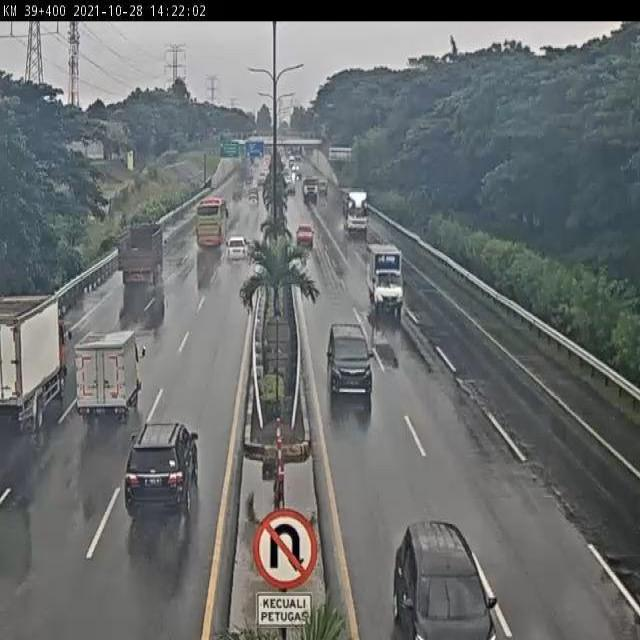big bus: (193, 196, 229, 251)
car: (123, 420, 201, 524), (324, 320, 373, 397), (223, 234, 253, 266), (294, 218, 314, 246)
truck-l-: (0, 294, 67, 434), (116, 223, 165, 289), (341, 189, 371, 239)
truck-s-: (74, 327, 144, 425), (364, 244, 408, 316)
